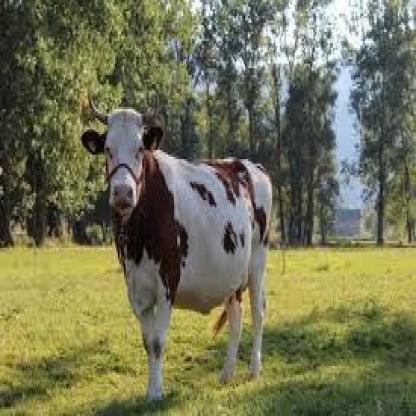cow: (82, 106, 272, 401)
